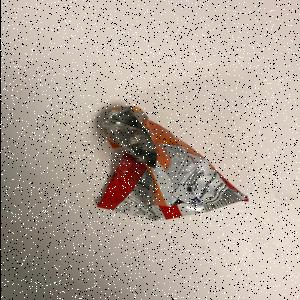Trash: (95, 106, 251, 223)
